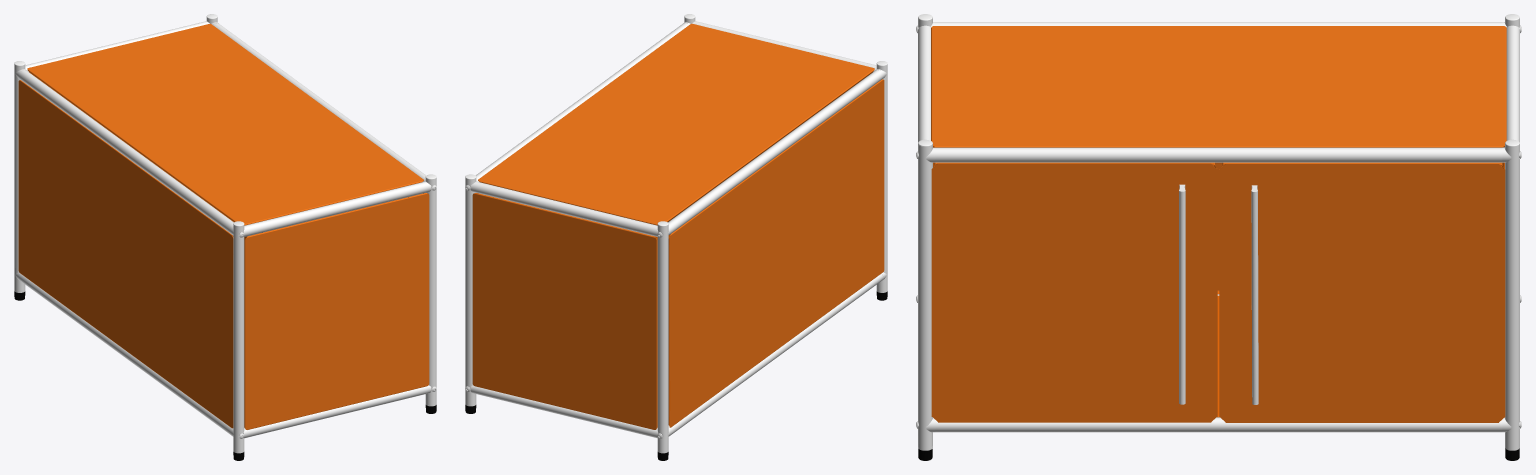
Rendered from 80x40x40-1-6-Orange_optimized.glb.
3 views of the same model, side by side, from view 1: azimuth 30°, elevation 25°; view 2: azimuth 150°, elevation 25°; view 3: azimuth 270°, elevation 25° (orthographic). The views are drawn at different scales.
Parts seen in each view (by area): view 1: 直角鐵板-80x40-3 - 零件, 鐵管-1層-40-正常腳-32mm-4 - 零件; view 2: 直角鐵板-80x40-3 - 零件, 鐵管-1層-40-正常腳-32mm-4 - 零件; view 3: 直角鐵板-80x40-3 - 零件, 鐵管-1層-40-正常腳-32mm-4 - 零件.
Boxes of the visible parts, <box> form: 直角鐵板-80x40-3 - 零件: <box>18,23,429,429</box>; 鐵管-1層-40-正常腳-32mm-4 - 零件: <box>14,14,436,453</box>; 直角鐵板-80x40-3 - 零件: <box>472,23,884,429</box>; 鐵管-1層-40-正常腳-32mm-4 - 零件: <box>465,14,887,453</box>; 直角鐵板-80x40-3 - 零件: <box>931,26,1506,422</box>; 鐵管-1層-40-正常腳-32mm-4 - 零件: <box>916,14,1521,450</box>.
Bounding box in the file's own units: 0.4203 × 0.4453 × 0.7732.
